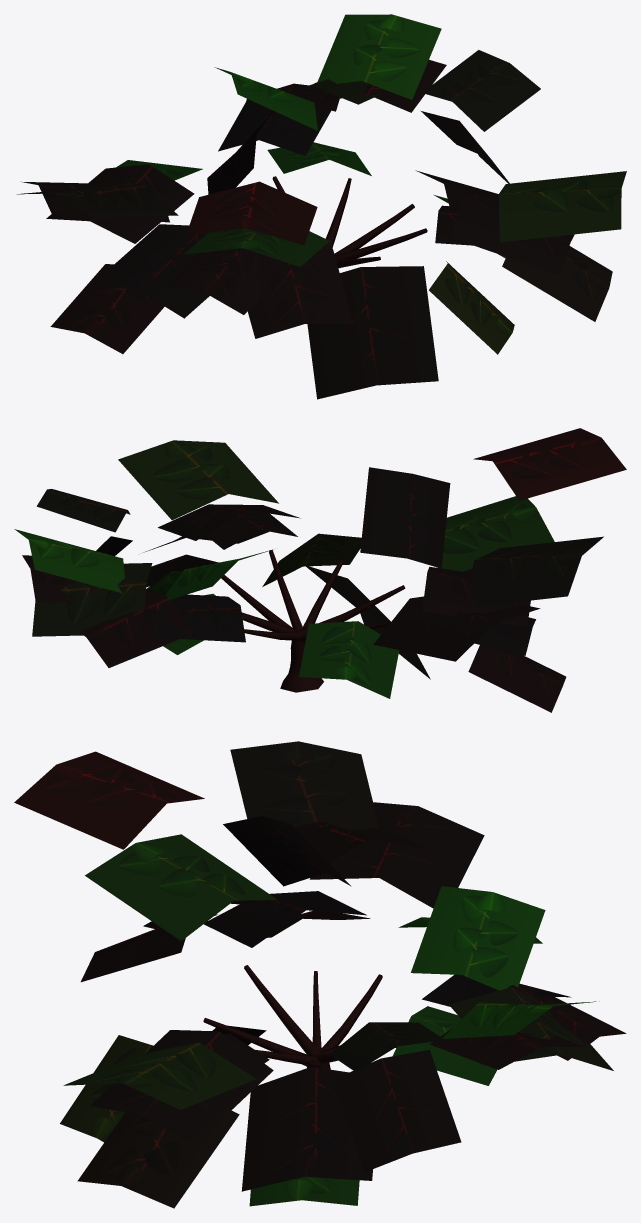
File: veg_banyan2_card.glb
3 renders of one model, top to bottom at view 1: azimuth 30°, elevation 25°; view 2: azimuth 150°, elevation 25°; view 3: azimuth 270°, elevation 25°, orthographic. The views are drawn at different scales.
Parts seen in each view (by area): view 1: banyan_2; view 2: banyan_2; view 3: banyan_2.
Part boxes in pixels (box(x1,y1,x2,y2)): banyan_2: box(17, 14, 626, 399); banyan_2: box(14, 428, 626, 712); banyan_2: box(14, 741, 626, 1208).
Size of the model in its own units: 38.52 by 17.27 by 33.36.
2 materials, 2 textured.
